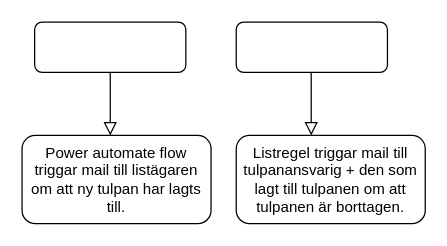
Image size: 447x246. Some labels were removed from this diagram. Each missing label, with the box of its shape:
Tulpan läggs till: (33, 21, 186, 72)
Tulpan tas bort: (235, 21, 387, 72)
